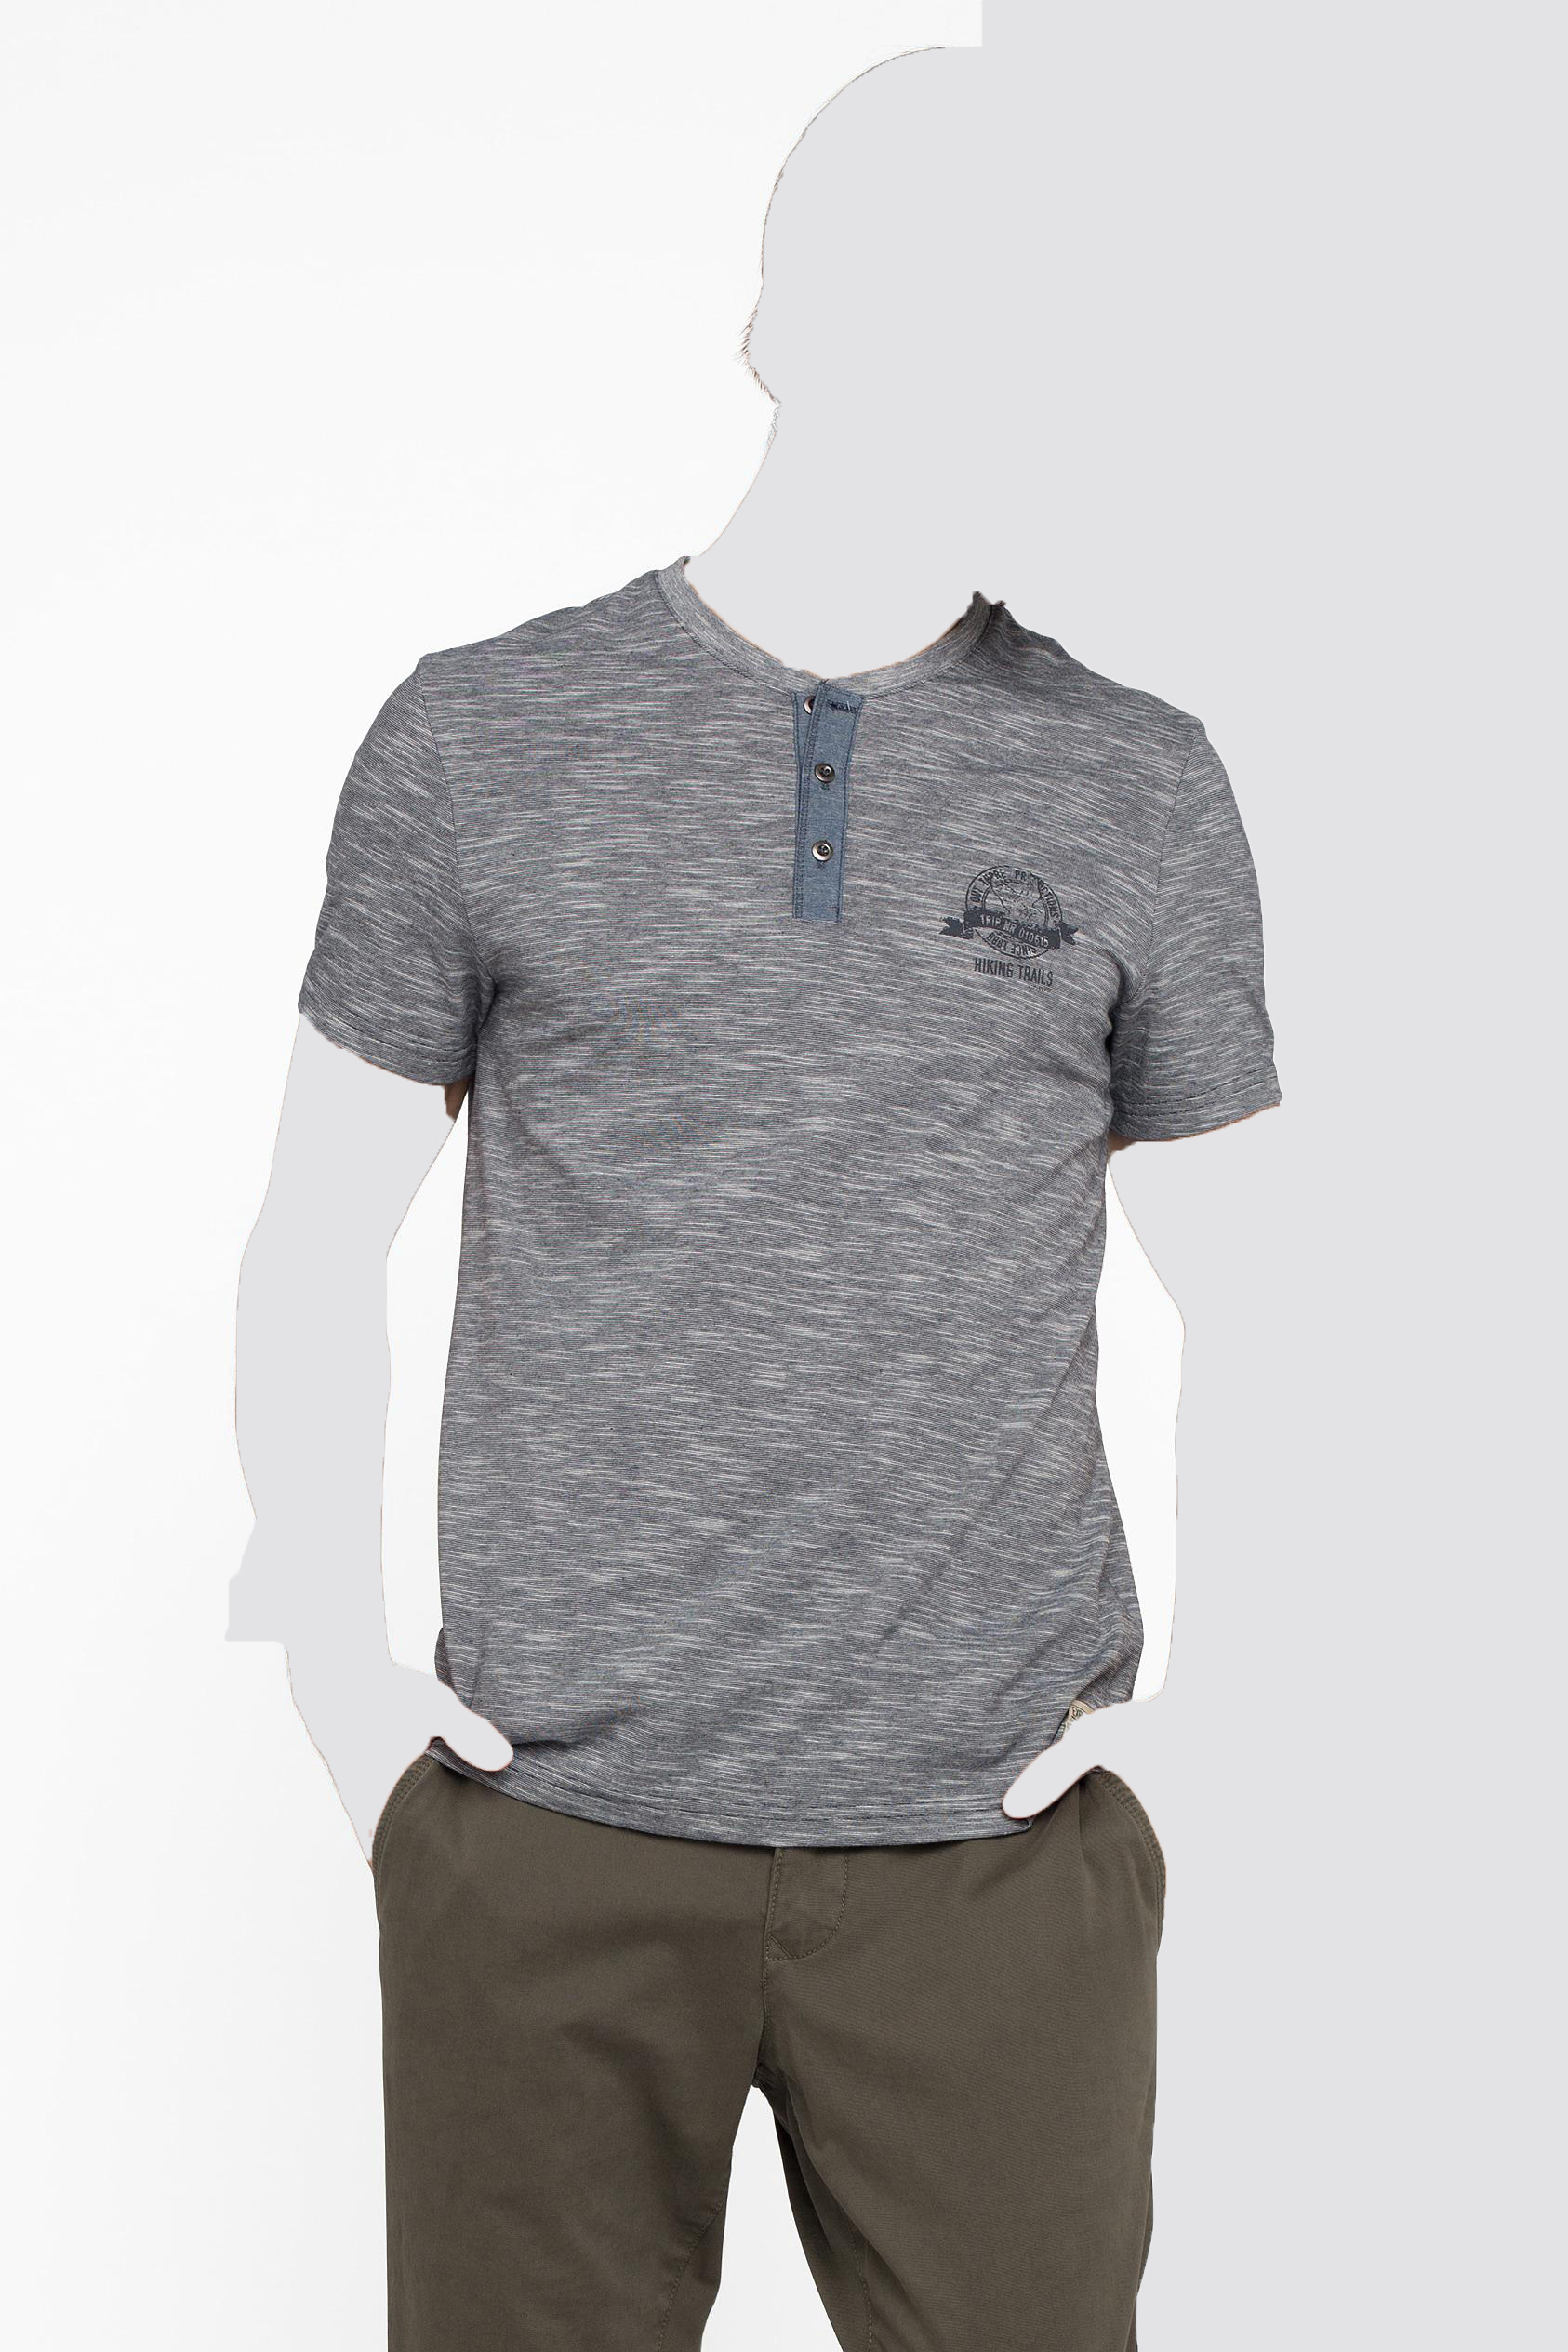teeshirt: (271, 542, 1300, 1872)
